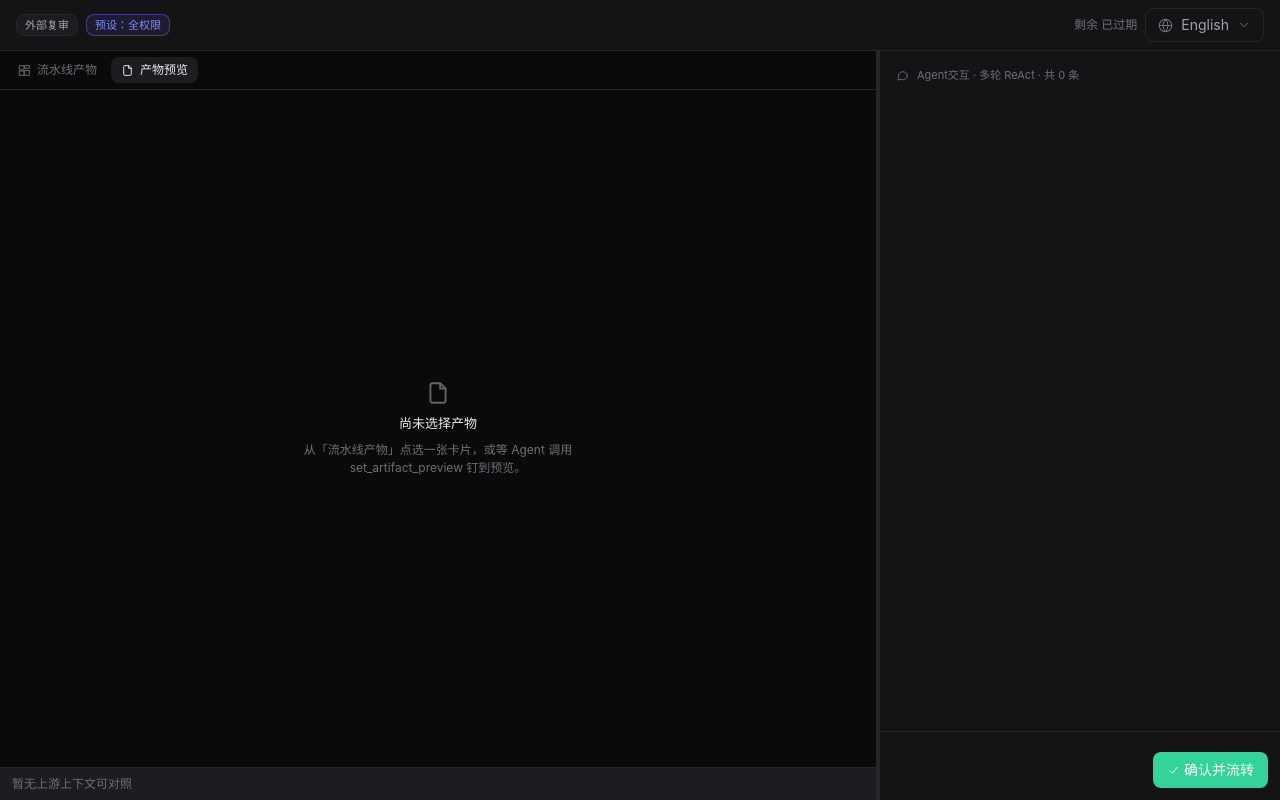
PublicGateApprovalView workbench › keeps workbench with disabled confirm when the link becomes invalid after open
The width and height of the screenshot is (1280, 800).
Click the button with test id "clarify-confirm-flow": (1210, 770) [1153, 752, 1268, 788]
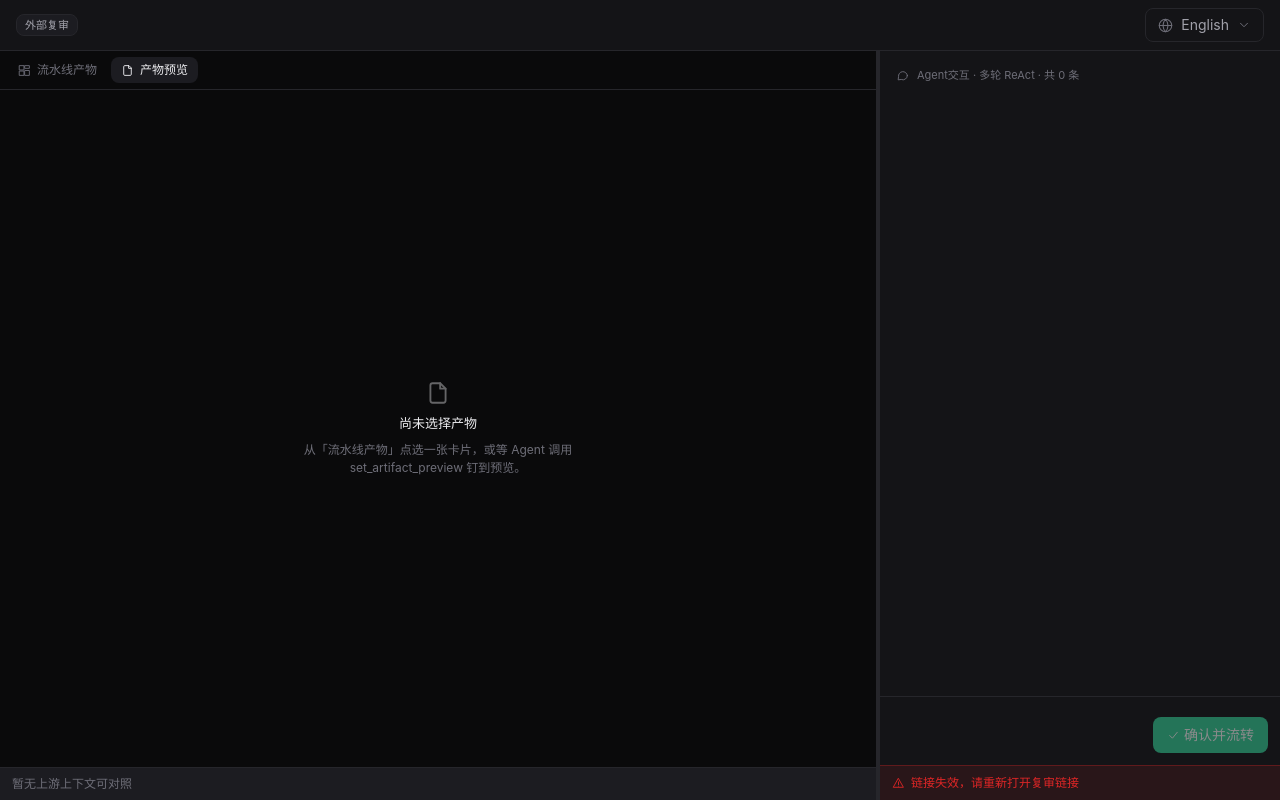
Expected: the message with test id "clarify-confirm-error" reads "链接失效，请重新打开复审链接", [911, 775, 1079, 790]
Expected: the button with test id "clarify-confirm-flow" is disabled, [1153, 717, 1268, 753]
